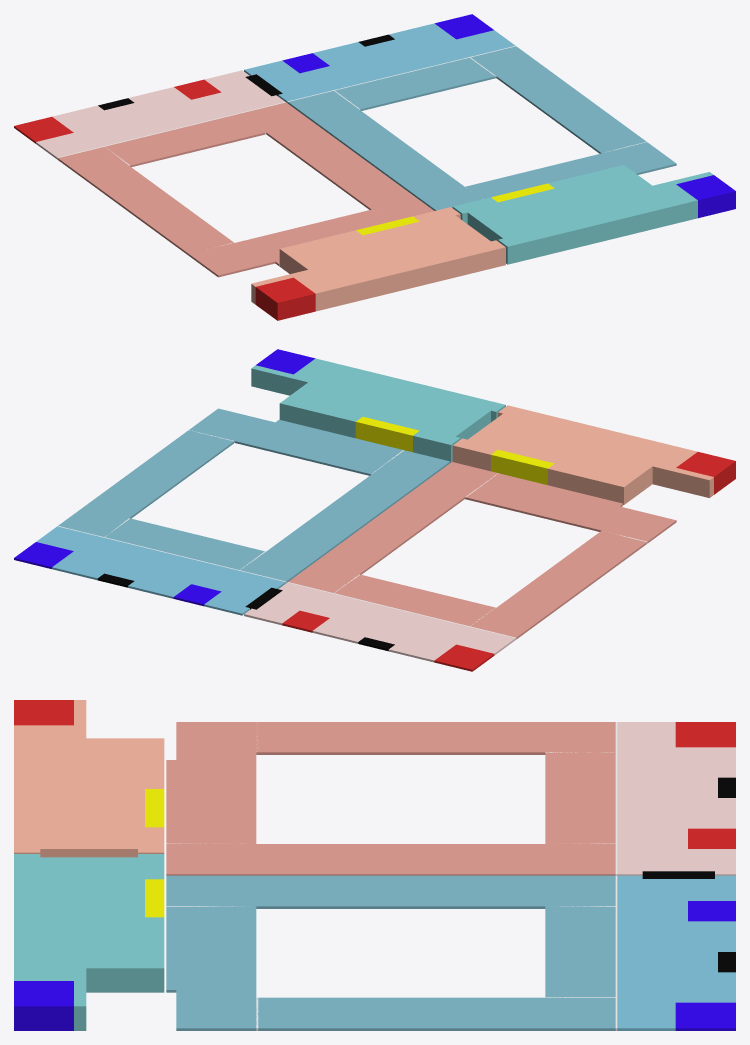
The model's file is floor.obj.
3 renders of one model, top to bottom at view 1: azimuth 30°, elevation 25°; view 2: azimuth 150°, elevation 25°; view 3: azimuth 270°, elevation 25°, orthographic. The views are drawn at different scales.
Visible parts, largest first — view 1: Meihua Forest Base Red, Meihua Forest Base Blue, Martial Arena Base Blue, Martial Arena Base Red, Martial Club Base Red, Martial Club Base Blue, Retry Zone Red Side, Retry Zone Blue Side, R1 Start or Retry Zone Red, R1 Start or Retry Zone Blue, R2 Start or Retry Zone Red, R2 Start or Retry Zone Blue; view 2: Meihua Forest Base Red, Meihua Forest Base Blue, Martial Arena Base Red, Martial Arena Base Blue, Martial Club Base Red, Martial Club Base Blue, Used Wepon Blue Side, Used Wepon Red Side, Retry Zone Red Side, R1 Start or Retry Zone Red, R1 Start or Retry Zone Blue, Retry Zone Blue Side (+2 smaller); view 3: Meihua Forest Base Blue, Meihua Forest Base Red, Martial Arena Base Blue, Martial Arena Base Red, Martial Club Base Blue, Martial Club Base Red, Retry Zone Blue Side, R1 Start or Retry Zone Blue, R1 Start or Retry Zone Red, Retry Zone Red Side, R2 Start or Retry Zone Red, R2 Start or Retry Zone Blue (+3 smaller).
Boxes of the visible parts, <box> form: Meihua Forest Base Red: <box>58,102,433,277</box>; Meihua Forest Base Blue: <box>288,46,676,210</box>; Martial Arena Base Blue: <box>452,165,713,264</box>; Martial Arena Base Red: <box>251,207,505,311</box>; Martial Club Base Red: <box>36,70,284,159</box>; Martial Club Base Blue: <box>244,23,515,102</box>; Retry Zone Red Side: <box>255,277,315,320</box>; Retry Zone Blue Side: <box>676,175,735,218</box>; R1 Start or Retry Zone Red: <box>14,116,73,143</box>; R1 Start or Retry Zone Blue: <box>435,14,493,39</box>; R2 Start or Retry Zone Red: <box>174,79,221,99</box>; R2 Start or Retry Zone Blue: <box>282,53,329,73</box>; Meihua Forest Base Red: <box>288,462,676,639</box>; Meihua Forest Base Blue: <box>58,408,450,582</box>; Martial Arena Base Red: <box>452,405,713,504</box>; Martial Arena Base Blue: <box>251,358,505,462</box>; Martial Club Base Red: <box>244,582,515,662</box>; Martial Club Base Blue: <box>36,526,285,615</box>; Used Wepon Blue Side: <box>355,417,419,452</box>; Used Wepon Red Side: <box>491,449,554,485</box>; Retry Zone Red Side: <box>676,452,735,494</box>; R1 Start or Retry Zone Red: <box>434,644,494,671</box>; R1 Start or Retry Zone Blue: <box>14,542,73,568</box>; Retry Zone Blue Side: <box>256,349,315,374</box>; Meihua Forest Base Blue: <box>166,875,615,1030</box>; Meihua Forest Base Red: <box>166,722,615,875</box>; Martial Arena Base Blue: <box>14,854,164,1030</box>; Martial Arena Base Red: <box>14,700,164,857</box>; Martial Club Base Blue: <box>617,875,735,1030</box>; Martial Club Base Red: <box>617,722,735,875</box>; Retry Zone Blue Side: <box>14,981,73,1030</box>; R1 Start or Retry Zone Blue: <box>675,1002,735,1030</box>; R1 Start or Retry Zone Red: <box>675,722,735,747</box>; Retry Zone Red Side: <box>14,700,73,725</box>; R2 Start or Retry Zone Red: <box>688,828,735,848</box>; R2 Start or Retry Zone Blue: <box>688,901,735,921</box>.
Size of the model in its own units: 12.05 by 0.45 by 12.
